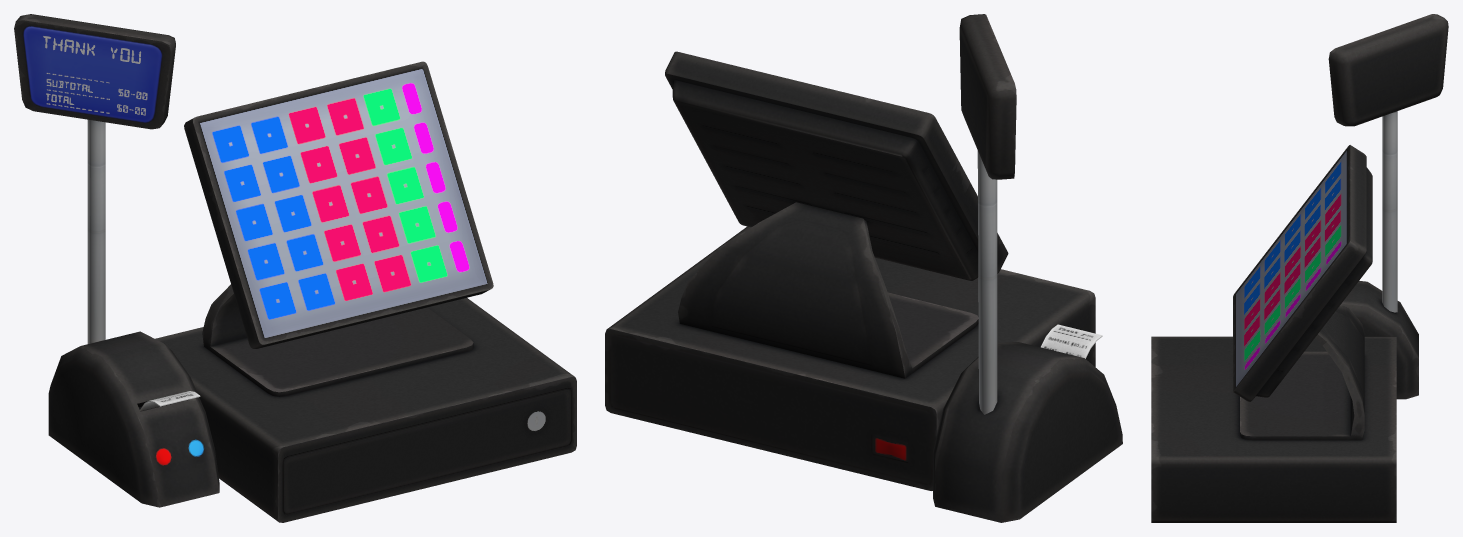
Rendered from CommCashRegister02.FBX.
The picture shows the model from 3 angles, left to right: view 1: azimuth 30°, elevation 25°; view 2: azimuth 150°, elevation 25°; view 3: azimuth 270°, elevation 25°; orthographic projection. The views are drawn at different scales.
Visible parts, largest first — view 1: CommCashRegister02; view 2: CommCashRegister02; view 3: CommCashRegister02.
Boxes of the visible parts, x1,y1,x2,y2 form: CommCashRegister02: (14, 14, 576, 522); CommCashRegister02: (605, 14, 1122, 522); CommCashRegister02: (1151, 14, 1448, 522).
Size of what is drawn, in the model's own units: 0.8381 by 0.8242 by 0.6376.
